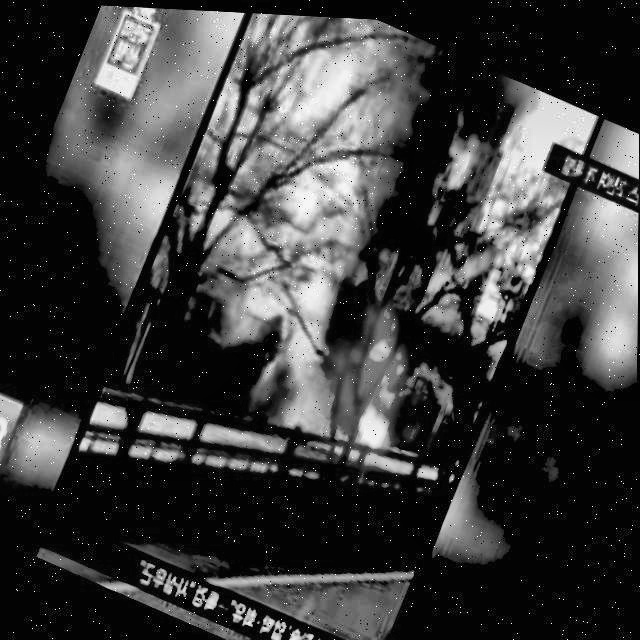Fire: (309, 311, 423, 446)
